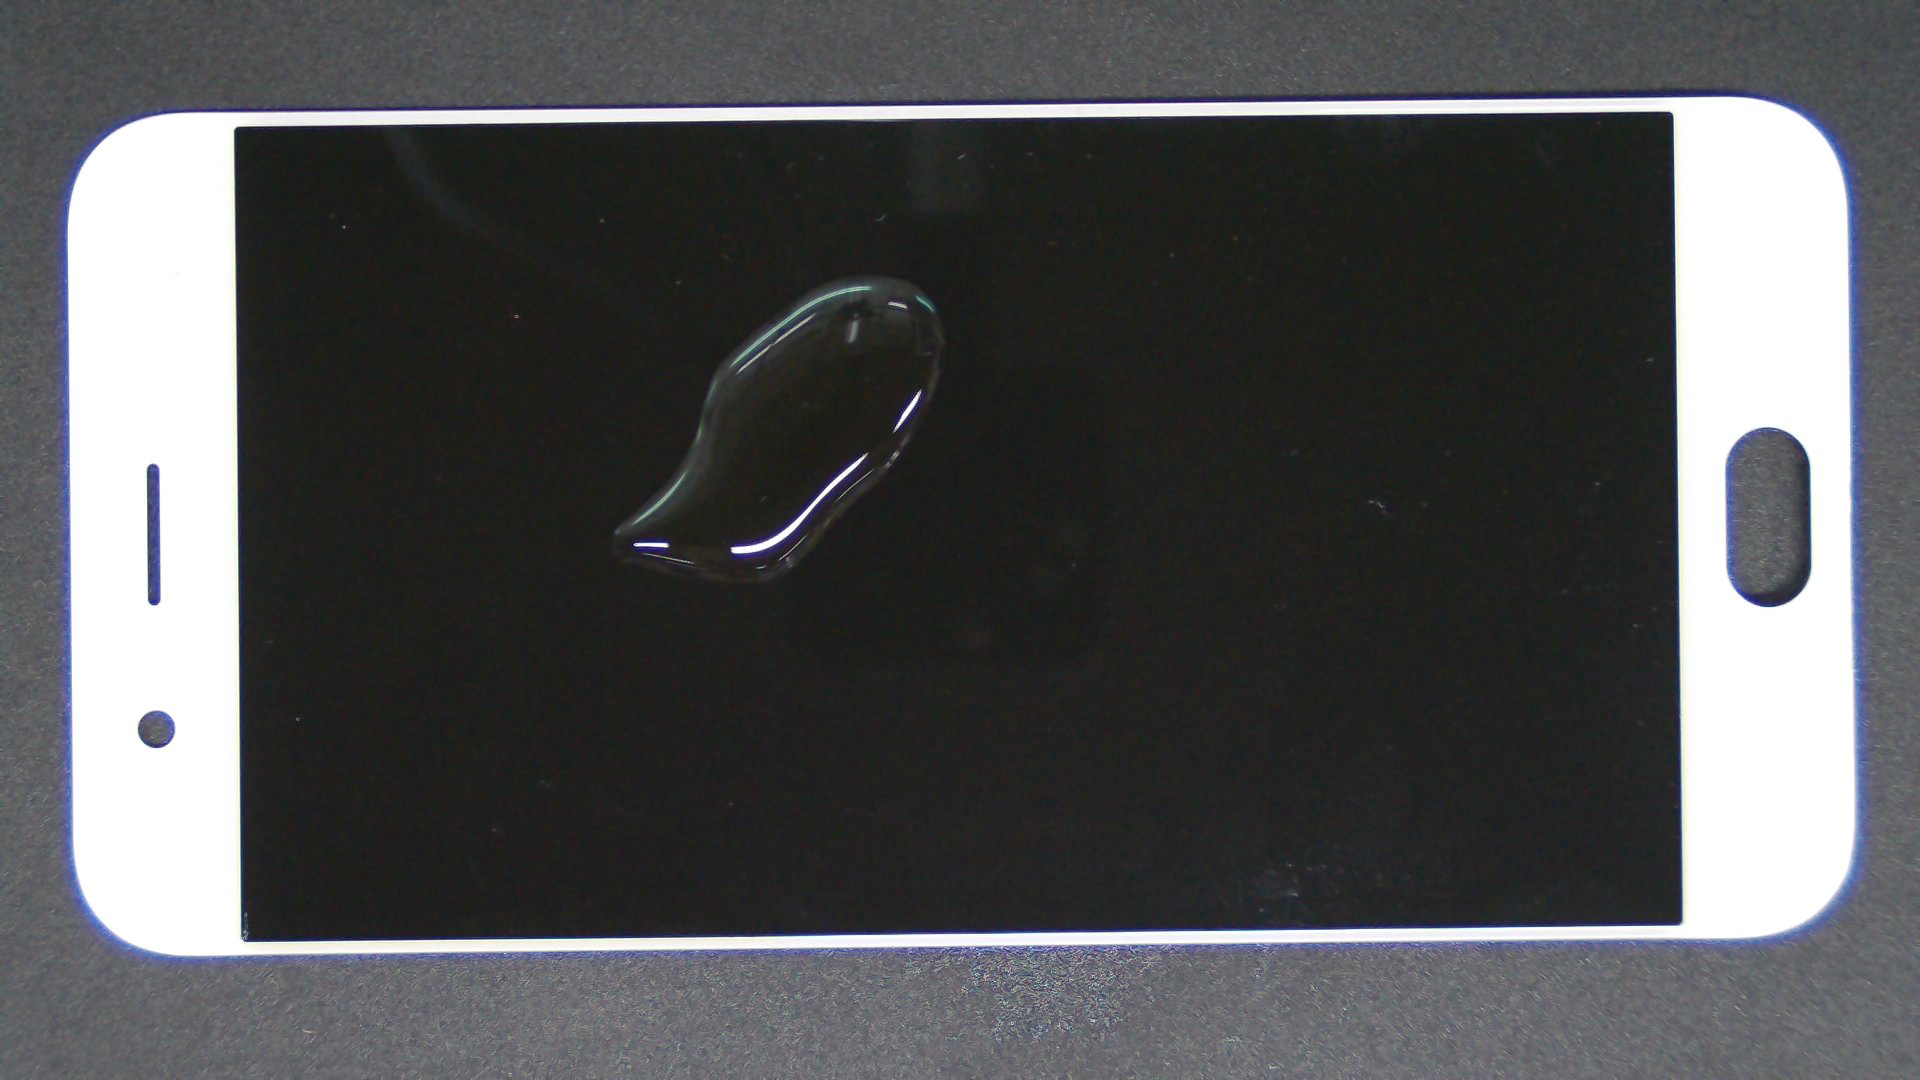defect: (612, 274, 947, 583)
